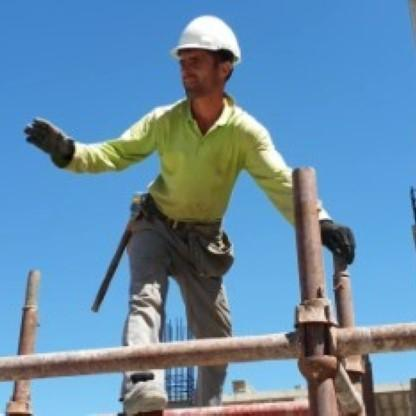helmet: (159, 14, 261, 116)
